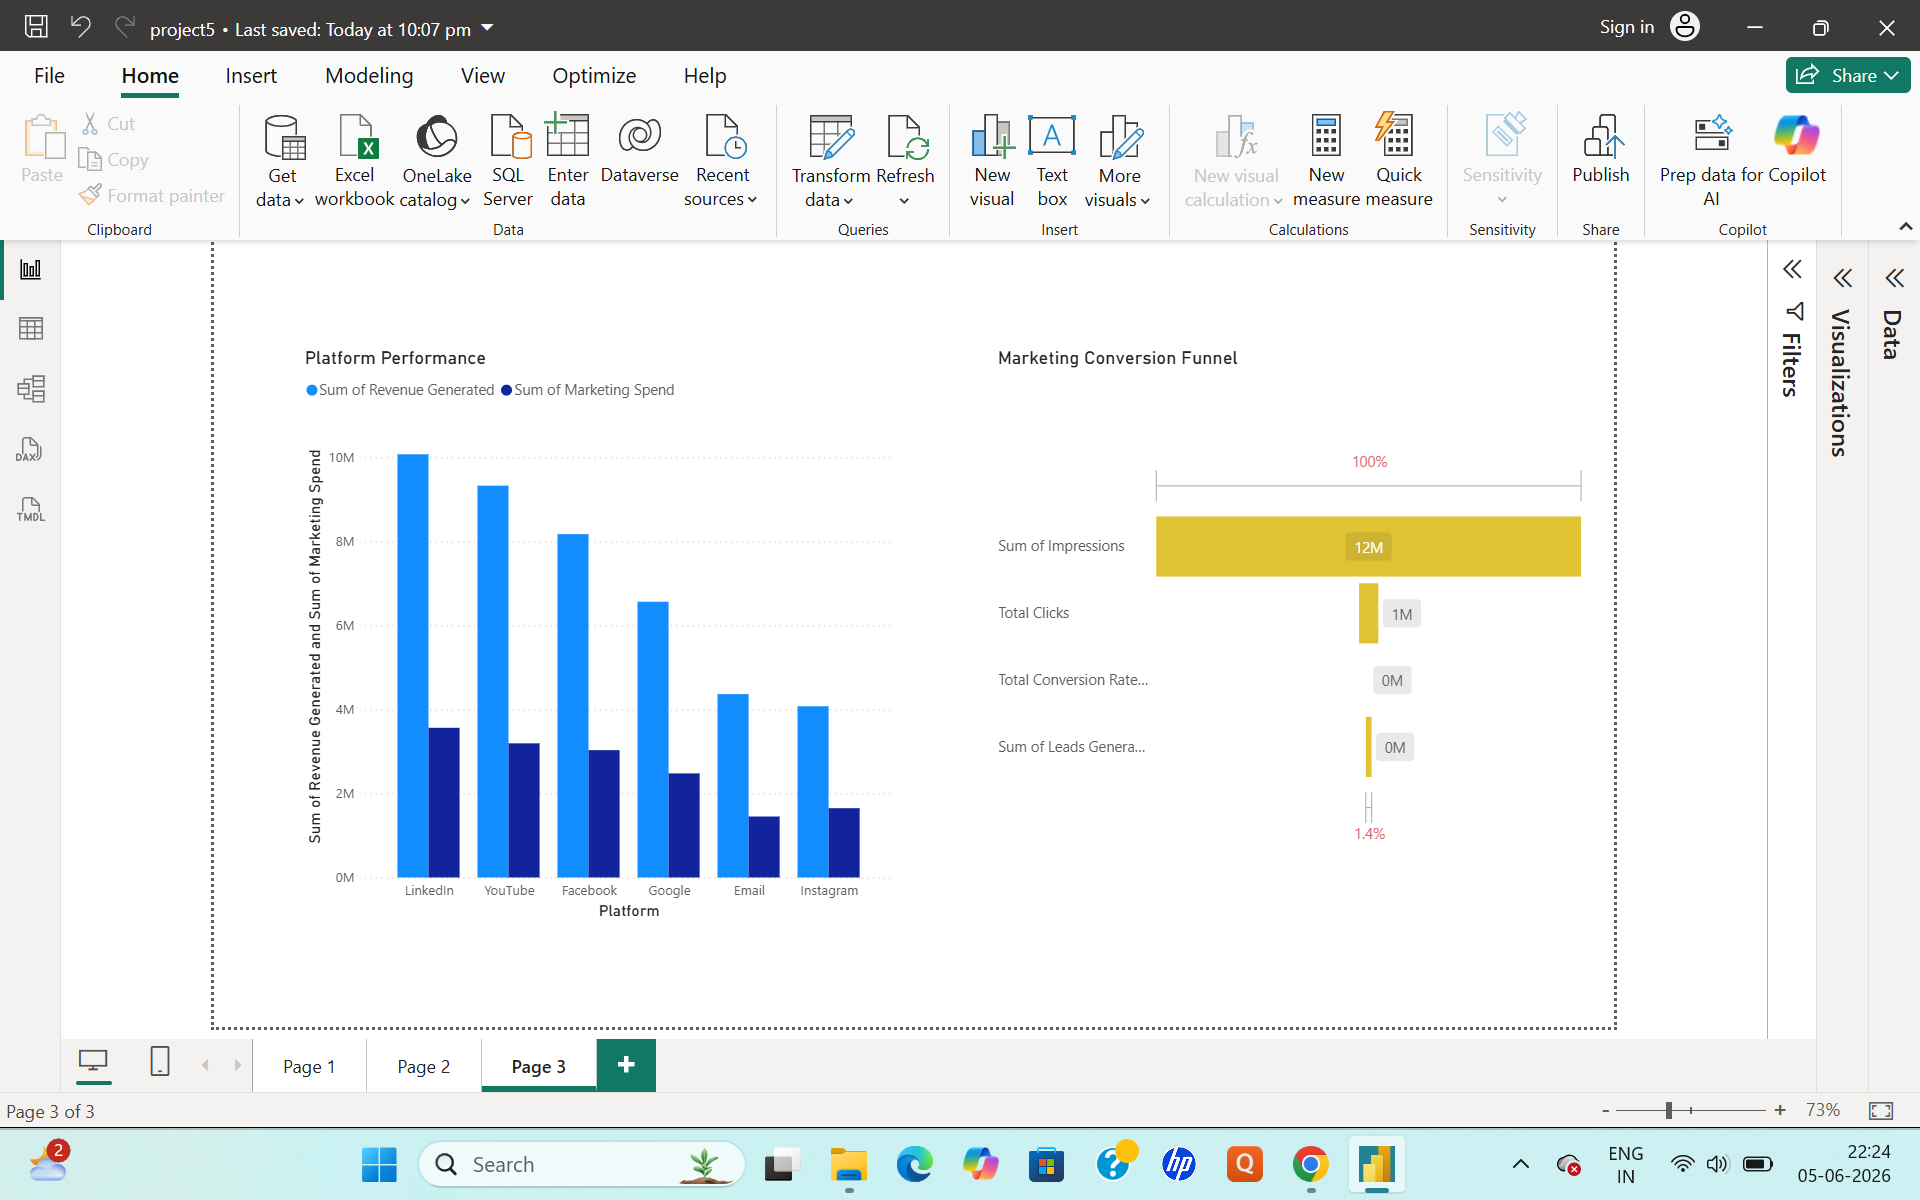

The page's visual inventory and layout, read from the dashboard file:
{"tool":"powerbi","page":{"name":"Page 3","canvas":[1280,720],"ordinal":2},"visuals":[{"type":"clusteredColumnChart","title":" Platform Performance","fields":{"Category":["Marketing_Campaign_Cleaned.Platform"],"Y":["Sum(Marketing_Campaign_Cleaned.Revenue Generated)","Sum(Marketing_Campaign_Cleaned.Marketing Spend)"]},"box":[78.7,96.9,548.1,528.5],"z":0},{"type":"funnel","title":"Marketing Conversion Funnel","fields":{"Y":["Sum(Marketing_Campaign_Cleaned.Impressions)","Marketing_Campaign_Cleaned.Total Clicks","Marketing_Campaign_Cleaned.Total Conversion Rate %","Sum(Marketing_Campaign_Cleaned.Leads Generated)"]},"box":[711.7,96.9,548.1,528.5],"z":1}]}

Visuals, with their boxes on the page's 1280x720 design canvas (x1, y1, x2, y2). These are canvas units, not pixel positions in the 1920x1200 screenshot, which may show the page scaled, cropped or inside an application window:
" Platform Performance" clusteredColumnChart: (left=79, top=97, right=627, bottom=625)
"Marketing Conversion Funnel" funnel: (left=712, top=97, right=1260, bottom=625)
